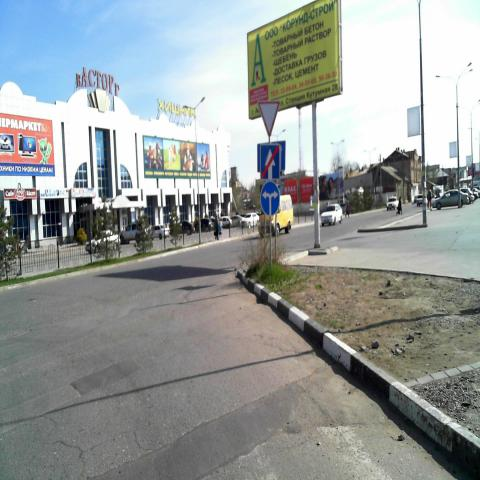4_1_6: (260, 181, 280, 216)
5_6: (260, 145, 280, 180)
